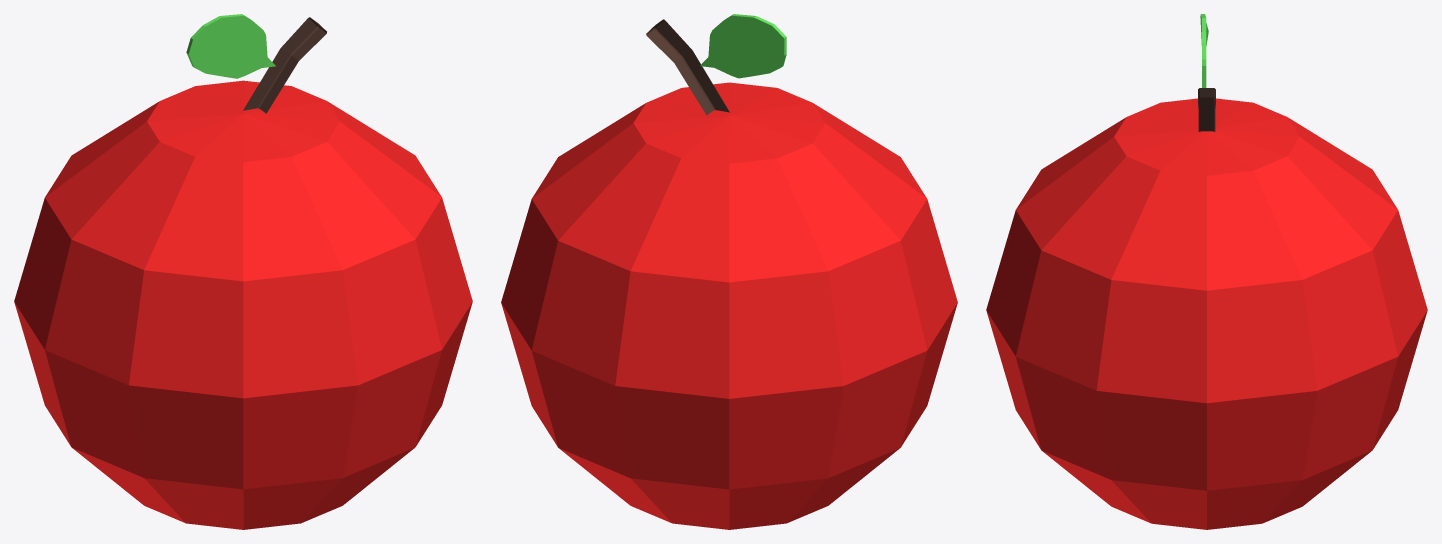
Rendered from jabukaSlicedKOOL.fbx.
3 views of the same model, side by side, from view 1: azimuth 30°, elevation 25°; view 2: azimuth 150°, elevation 25°; view 3: azimuth 270°, elevation 25° (orthographic). The views are drawn at different scales.
Parts seen in each view (by area): view 1: Sphere.008, Sphere.007; view 2: Sphere.008, Sphere.007; view 3: Sphere.007, Sphere.008.
Boxes of the visible parts, x1,y1,x2,y2 form: Sphere.008: [14, 86, 357, 529]; Sphere.007: [186, 14, 472, 523]; Sphere.008: [615, 88, 957, 529]; Sphere.007: [501, 14, 786, 522]; Sphere.007: [986, 14, 1427, 529]; Sphere.008: [1016, 98, 1397, 209].
Size of the model in its own units: 200 by 230 by 200.
